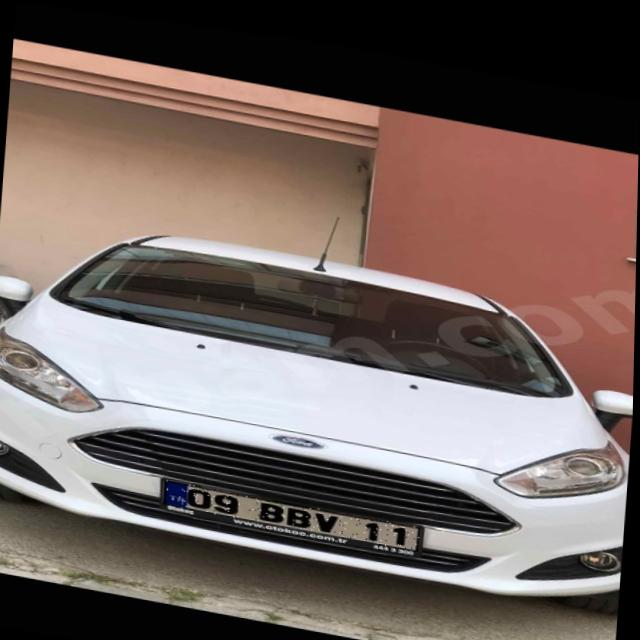license_plate: (165, 475, 423, 540)
